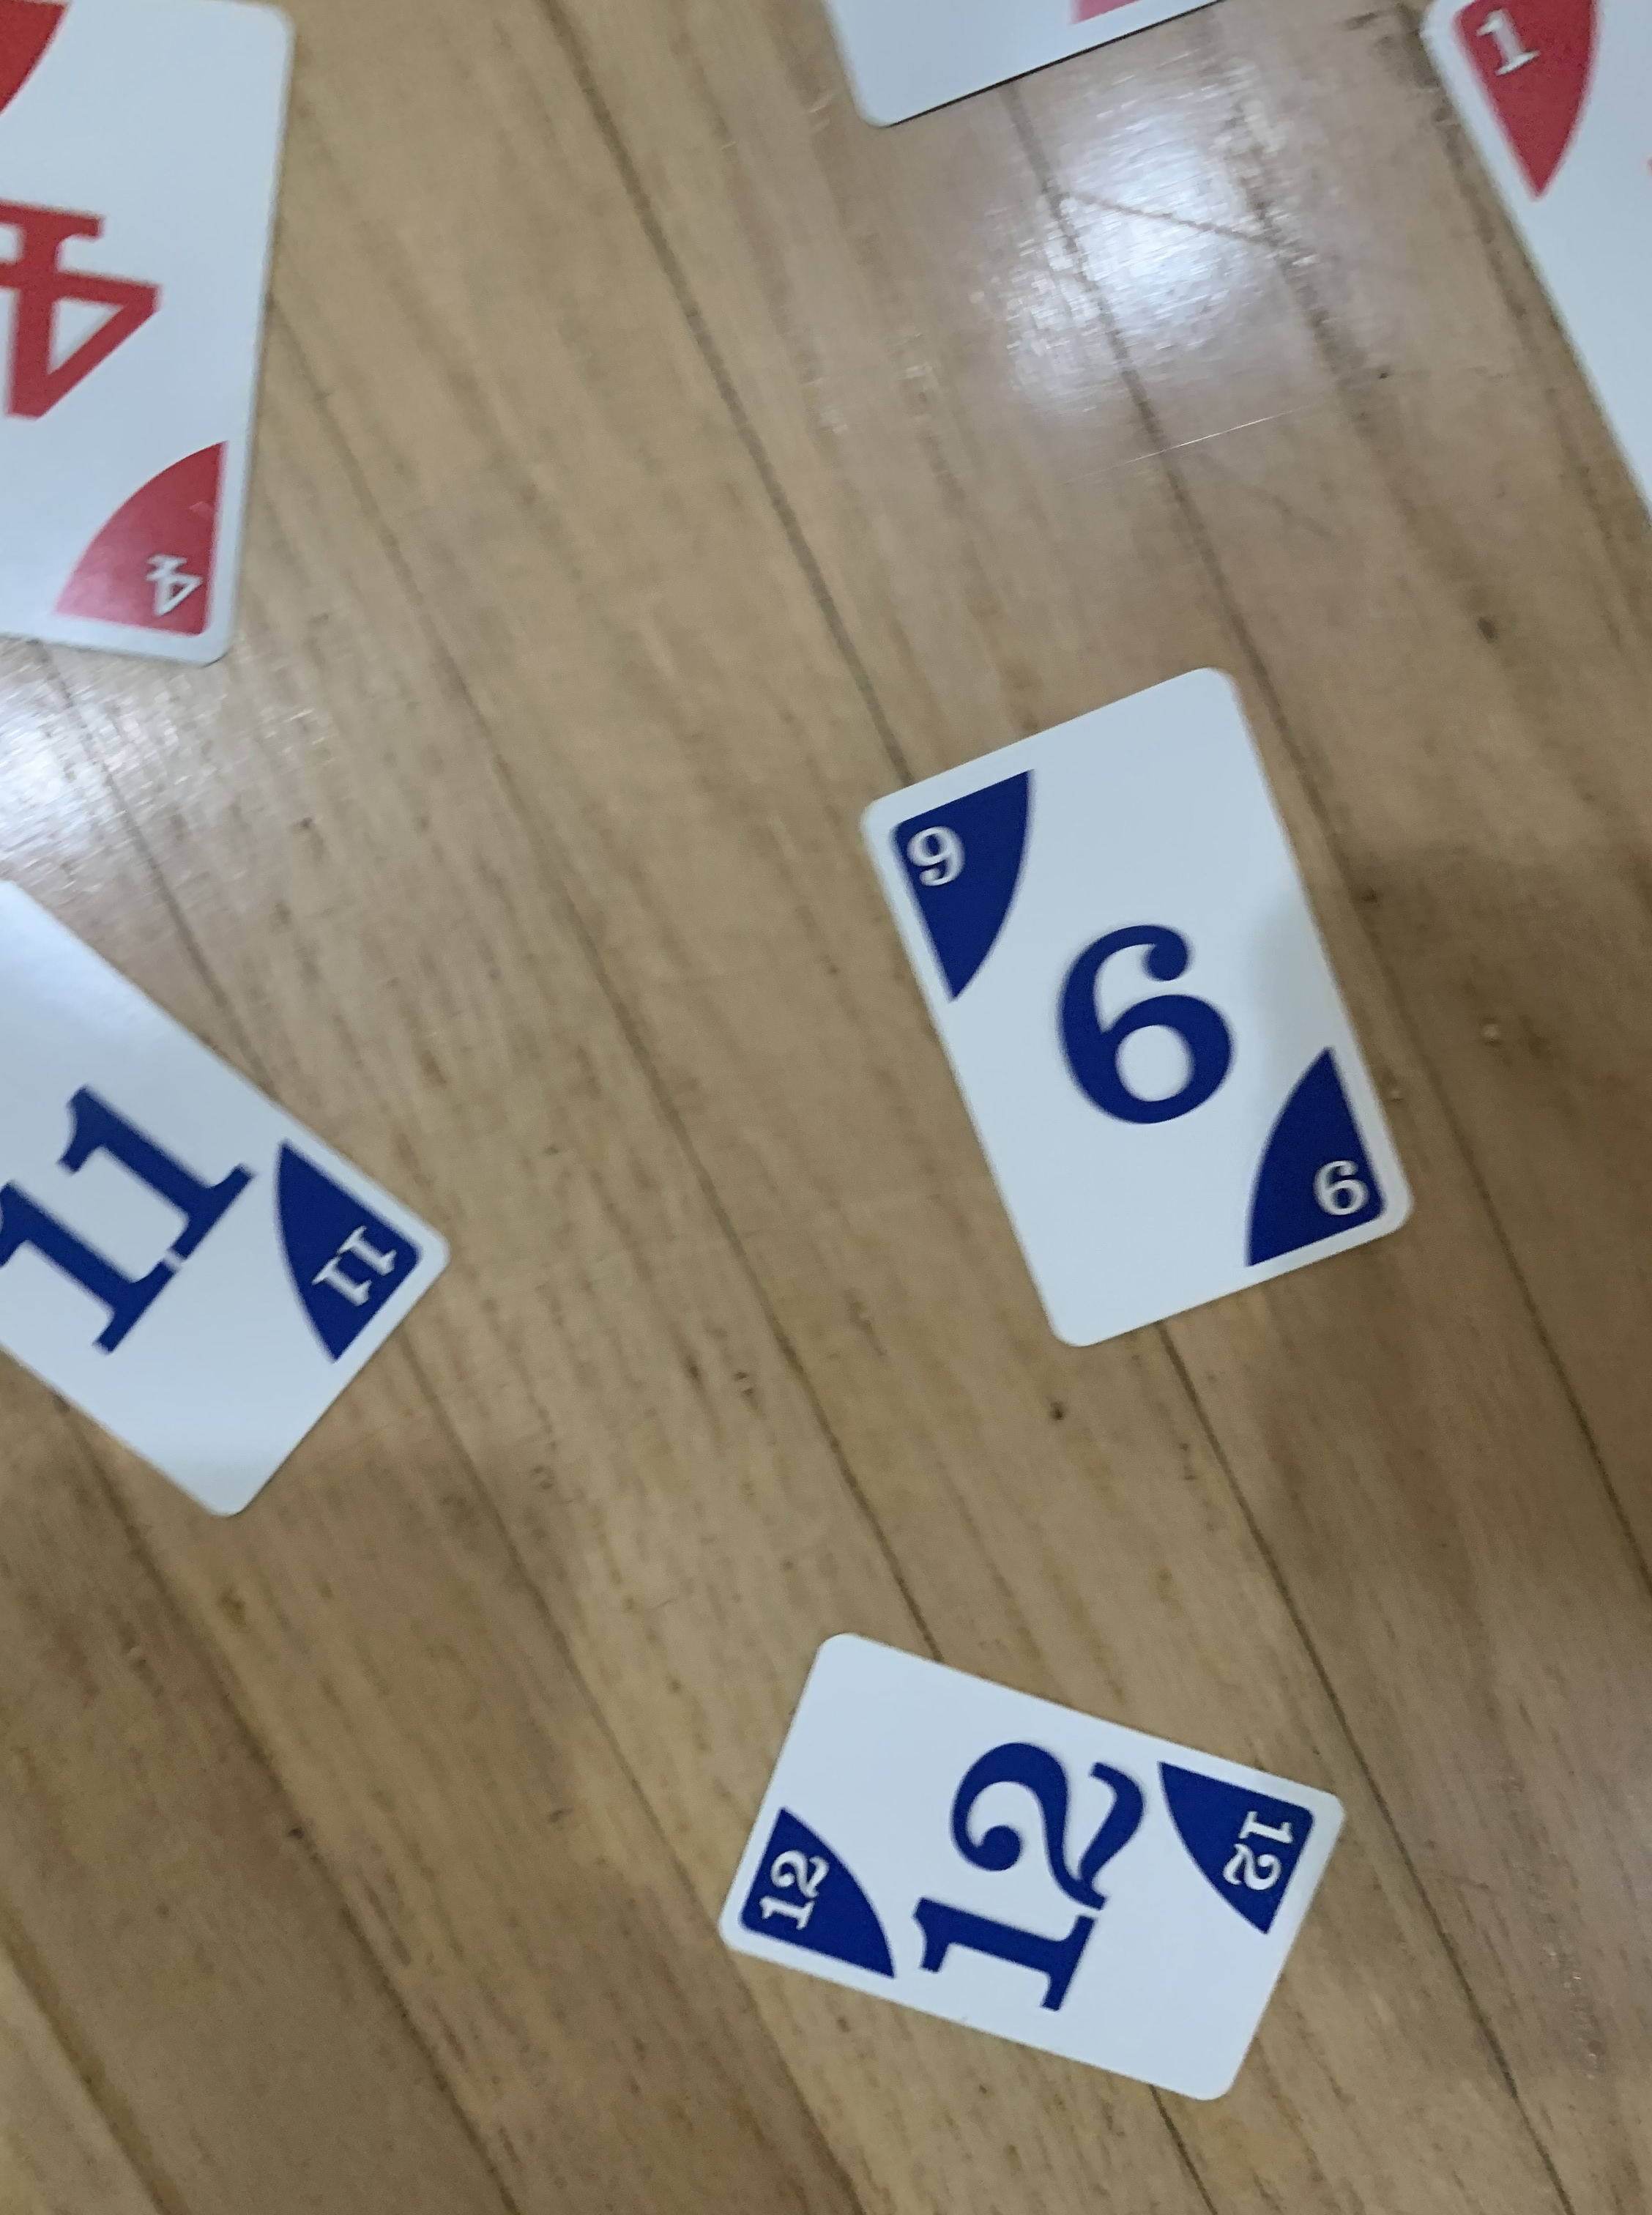eleven: (0, 866, 467, 1529)
six: (857, 661, 1435, 1370)
twelve: (711, 1623, 1350, 2120)
